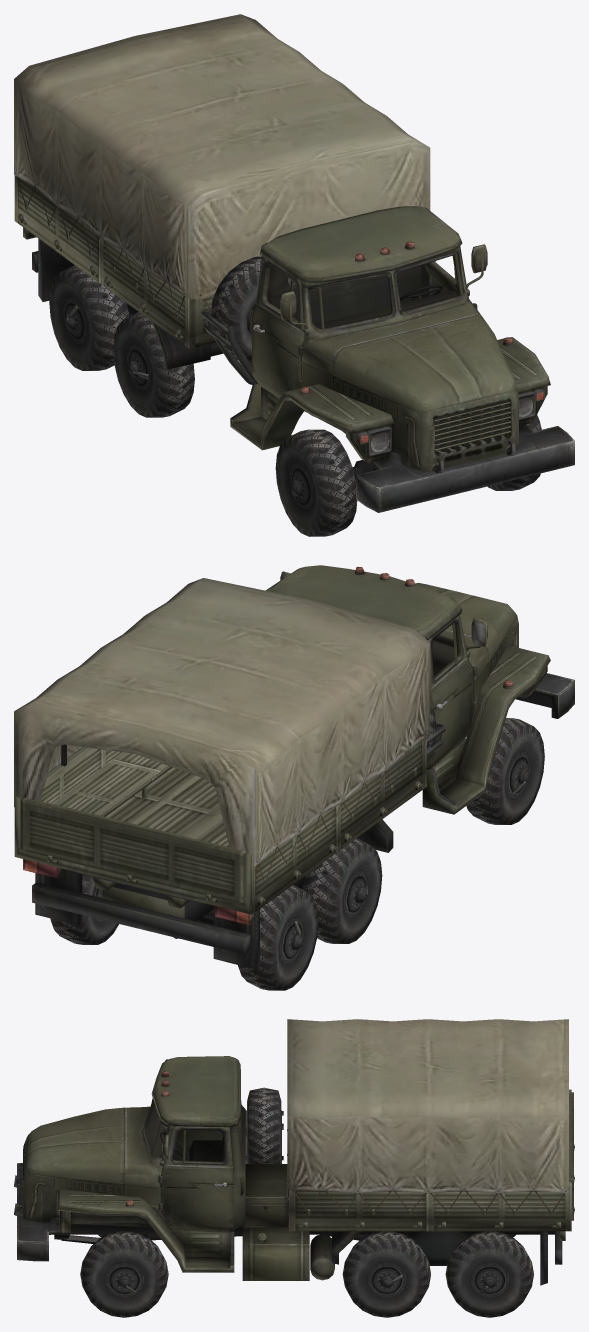
The model's file is m_ural.glb.
3 views of the same model, one above another, from view 1: azimuth 30°, elevation 25°; view 2: azimuth 150°, elevation 25°; view 3: azimuth 270°, elevation 25° (orthographic). The views are drawn at different scales.
Bounding box in the file's own units: 3.05 × 3.27 × 7.57.
Materials: 1 (1 with a texture image).
